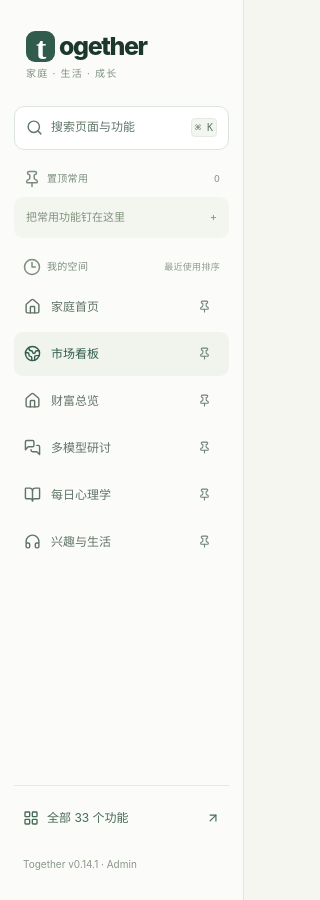
置顶等待本人云端确认，失败保留旧状态；重连可恢复另一设备已保存的置顶
Click the button named "置顶市场看板" at (204, 354), box x1=182 y1=332 x2=226 y2=376
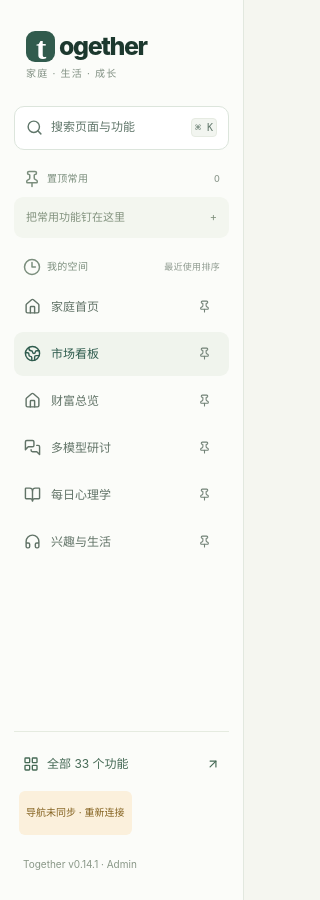
Check: the button "导航未同步 · 重新连接" is shown
Click the button "导航未同步 · 重新连接" at (75, 813), box x1=19 y1=791 x2=132 y2=835
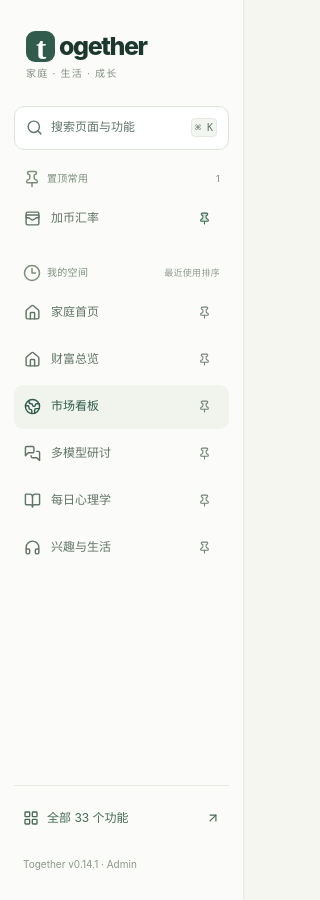
Check: the button named "取消置顶加币汇率" is shown, box x1=182 y1=197 x2=226 y2=241
